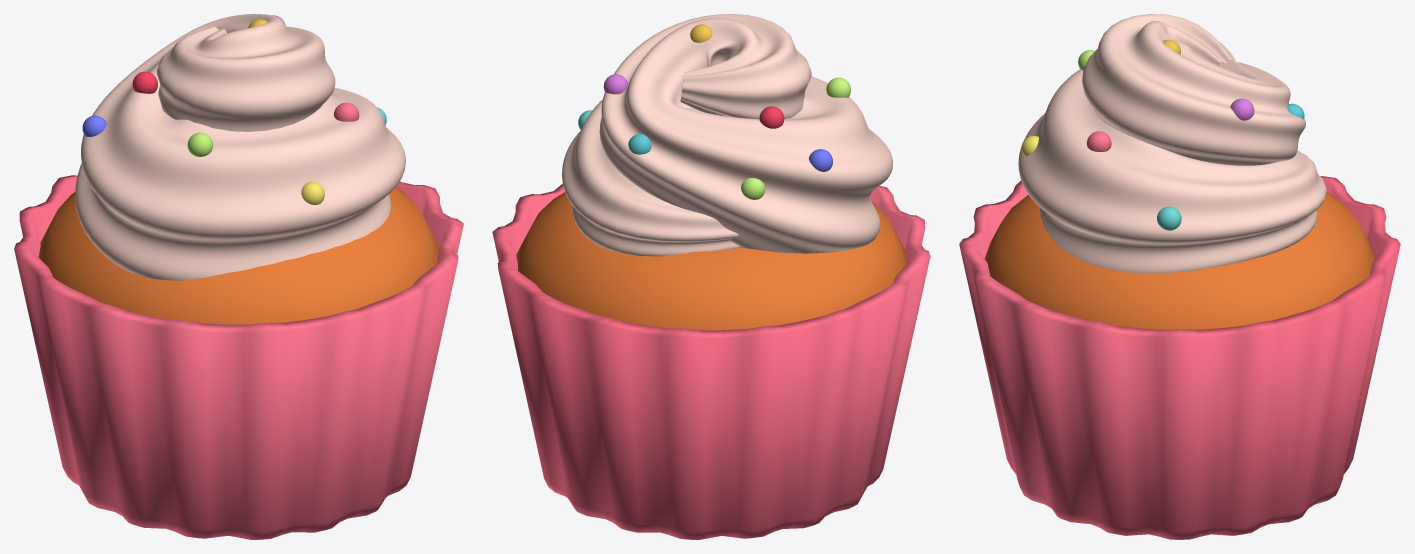
Rendered from Cupcake.fbx.
3 views of the same model, side by side, from view 1: azimuth 30°, elevation 25°; view 2: azimuth 150°, elevation 25°; view 3: azimuth 270°, elevation 25° (orthographic). The views are drawn at different scales.
Parts seen in each view (by area): view 1: Cupcake; view 2: Cupcake; view 3: Cupcake.
Part boxes in pixels (x1,y1,x2,y2): Cupcake: [14, 14, 463, 539]; Cupcake: [492, 14, 930, 539]; Cupcake: [959, 14, 1400, 539].
Size of the model in its own units: 252 by 280 by 252.
